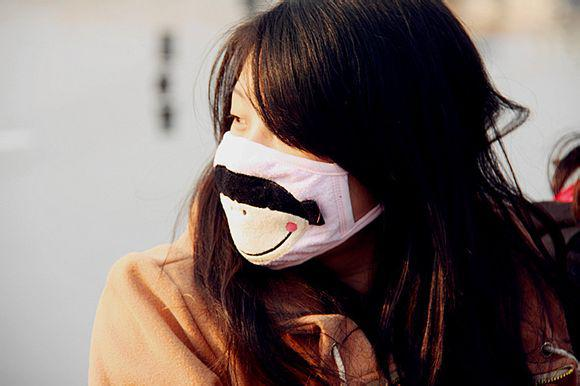OK: (215, 94, 389, 268)
